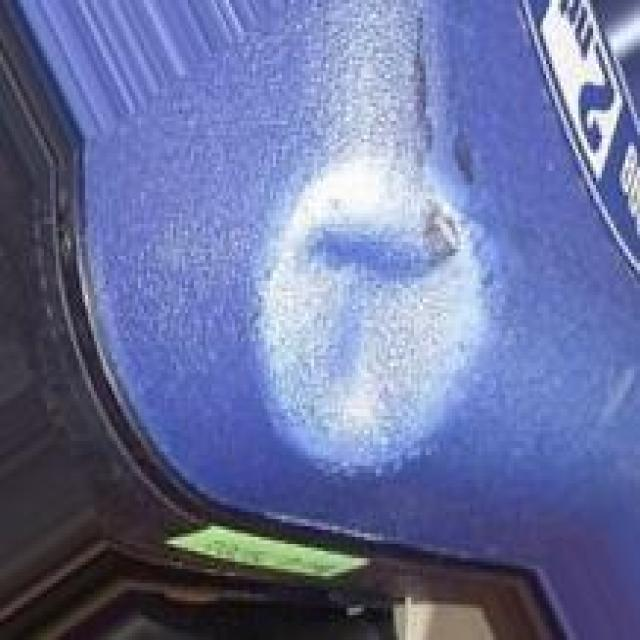Damage-bag: (261, 12, 484, 469), (456, 148, 471, 181)
